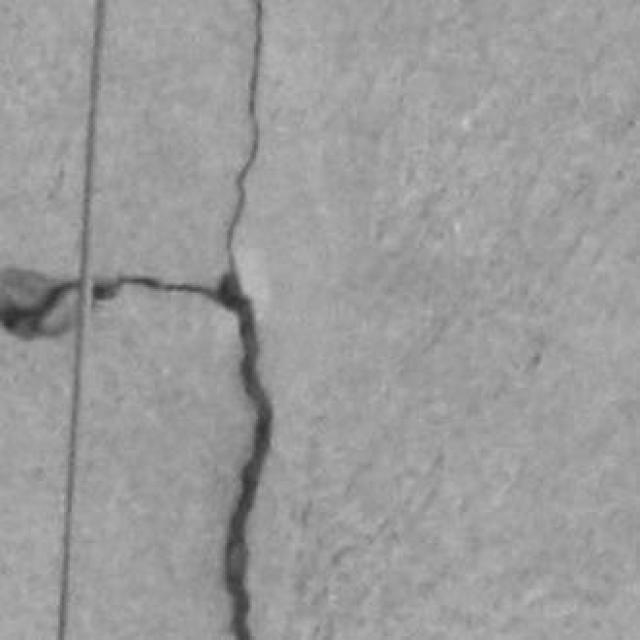crack: (88, 0, 273, 639), (218, 0, 273, 639), (92, 276, 221, 304)
